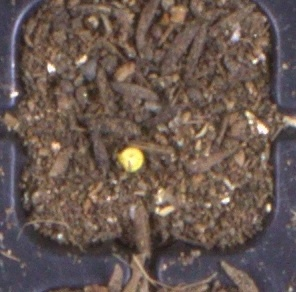chilli seed: (116, 146, 144, 173)
